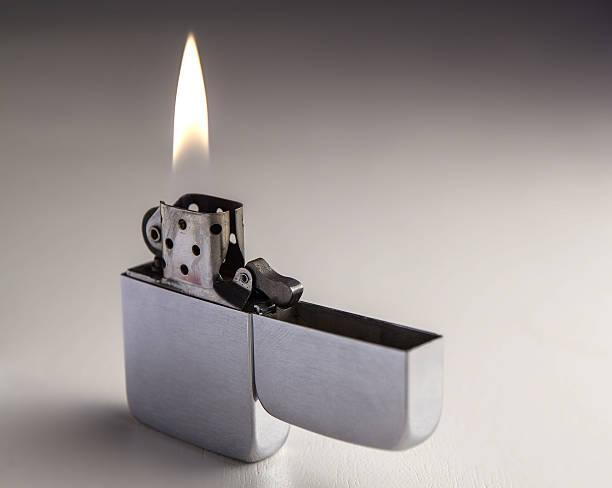Fire: (171, 25, 213, 175)
